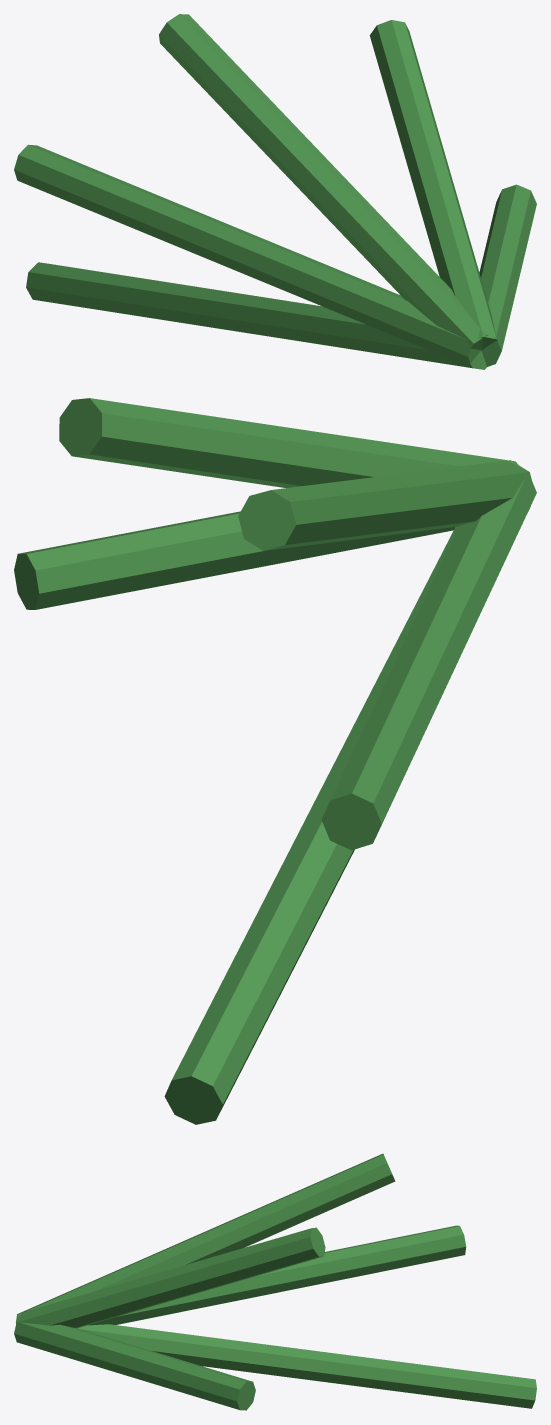
The model's file is env_mic_004.glb.
3 renders of one model, top to bottom at view 1: azimuth 30°, elevation 25°; view 2: azimuth 150°, elevation 25°; view 3: azimuth 270°, elevation 25°, orthographic. The views are drawn at different scales.
Visible parts, largest first — view 1: vegetation_blade.018, vegetation_blade.017, vegetation_blade.019, vegetation_blade.016, vegetation_blade.015; view 2: vegetation_blade.018, vegetation_blade.019, vegetation_blade.016, vegetation_blade.017, vegetation_blade.015; view 3: vegetation_blade.019, vegetation_blade.016, vegetation_blade.017, vegetation_blade.018, vegetation_blade.015.
Boxes of the visible parts, bbox=[...] form: vegetation_blade.018: bbox=[14, 144, 480, 366]; vegetation_blade.017: bbox=[159, 14, 488, 350]; vegetation_blade.019: bbox=[26, 262, 486, 369]; vegetation_blade.016: bbox=[369, 20, 497, 349]; vegetation_blade.015: bbox=[479, 184, 536, 366]; vegetation_blade.018: bbox=[321, 476, 536, 850]; vegetation_blade.019: bbox=[164, 506, 530, 1124]; vegetation_blade.016: bbox=[59, 398, 519, 487]; vegetation_blade.017: bbox=[238, 460, 532, 550]; vegetation_blade.015: bbox=[14, 511, 455, 609]; vegetation_blade.019: bbox=[78, 1324, 536, 1408]; vegetation_blade.016: bbox=[15, 1227, 325, 1328]; vegetation_blade.017: bbox=[18, 1153, 395, 1316]; vegetation_blade.018: bbox=[88, 1225, 466, 1325]; vegetation_blade.015: bbox=[14, 1320, 255, 1410].
Bounding box in the file's own units: 0.3897 × 0.3342 × 0.5859.
